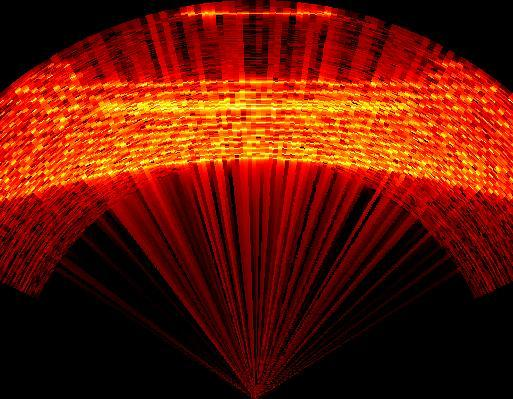pipe: (54, 12, 458, 116)
